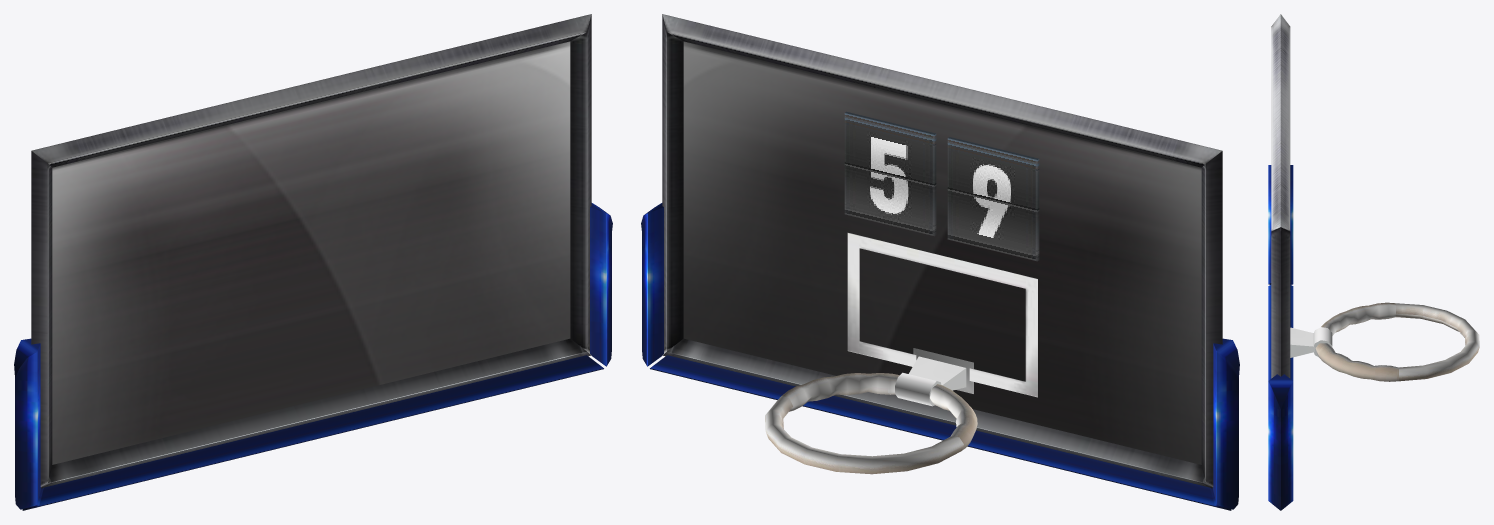
File: main.obj
3 renders of one model, left to right at view 1: azimuth 30°, elevation 25°; view 2: azimuth 150°, elevation 25°; view 3: azimuth 270°, elevation 25°, orthographic. The views are drawn at different scales.
Parts seen in each view (by area): view 1: lanban, huikuang, lanqiukuang; view 2: lanban, huikuang, lanqiukuang, shiwei, gewei, lankuangquan, lankuangxian, lianjieh; view 3: huikuang, lankuangquan, lanqiukuang, lianjieh.
Part boxes in pixels (x1,y1,x2,y2): lanban: (52, 41, 570, 464); huikuang: (31, 14, 591, 488); lanqiukuang: (14, 203, 612, 510); lanban: (683, 41, 1201, 464); huikuang: (662, 14, 1222, 488); lanqiukuang: (641, 203, 1239, 510); shiwei: (844, 111, 936, 236); gewei: (947, 137, 1039, 261); lankuangquan: (765, 373, 977, 474); lankuangxian: (847, 232, 1037, 397); lianjieh: (895, 348, 973, 406); huikuang: (1271, 14, 1290, 378); lankuangquan: (1315, 302, 1479, 381); lanqiukuang: (1268, 165, 1293, 510); lianjieh: (1290, 327, 1332, 357).
Size of the model in its own units: 197 by 113 by 77.69.
Materials: 7 (7 with a texture image).
